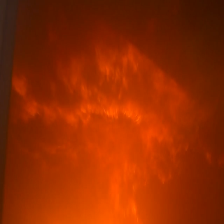fire_h: (42, 103, 189, 221), (121, 45, 195, 116), (56, 55, 98, 97), (94, 47, 114, 74)
fire_l: (20, 99, 38, 122), (10, 75, 28, 97)
